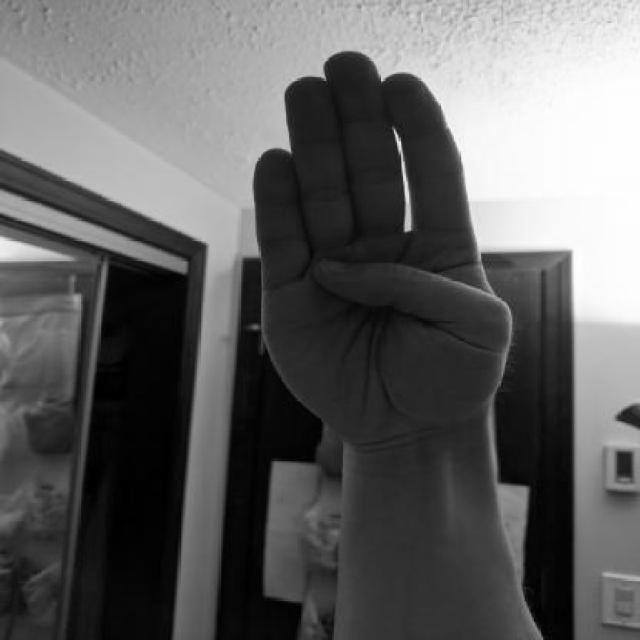B: (242, 45, 523, 459)
